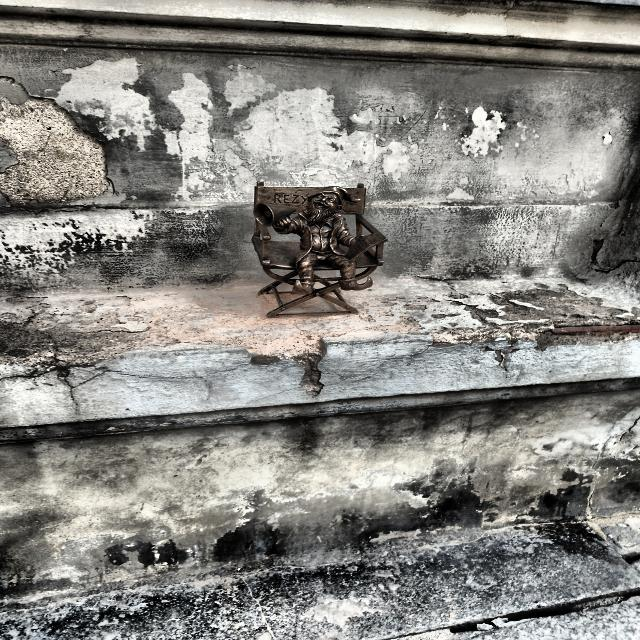Rezyser: (252, 182, 387, 318)
